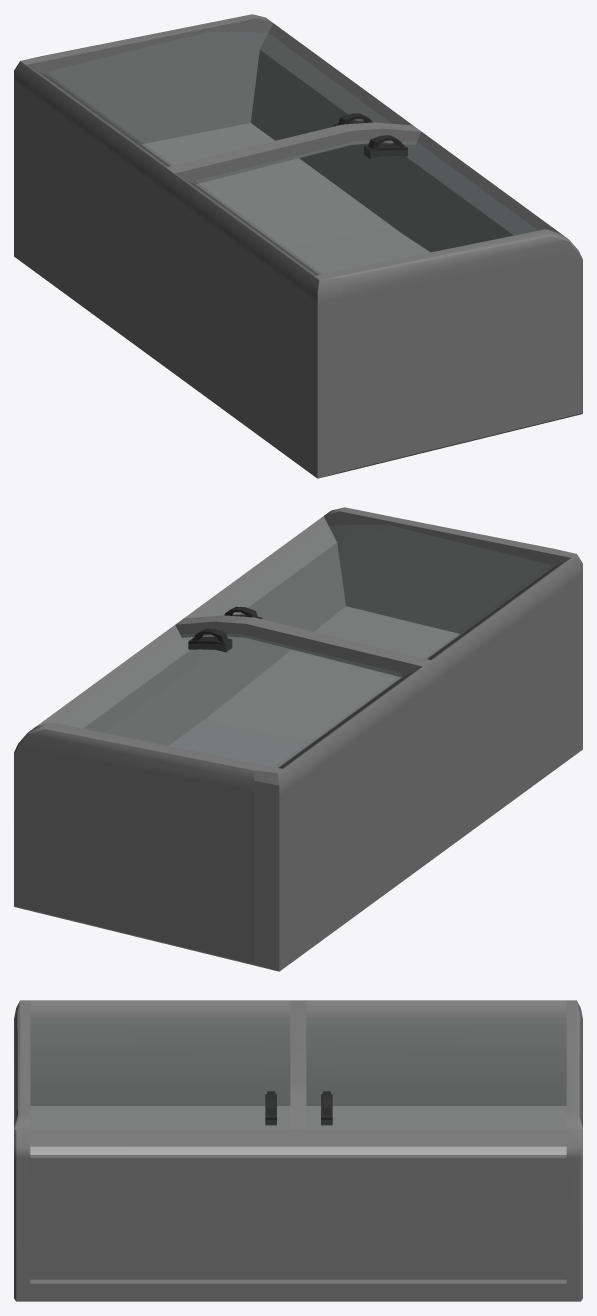
The model's file is BoxFreezer.fbx.
3 views of the same model, one above another, from view 1: azimuth 30°, elevation 25°; view 2: azimuth 150°, elevation 25°; view 3: azimuth 270°, elevation 25° (orthographic). The views are drawn at different scales.
Parts seen in each view (by area): view 1: BoxFreezer; view 2: BoxFreezer; view 3: BoxFreezer.
Boxes of the visible parts, <box> form: BoxFreezer: <box>14,14,582,478</box>; BoxFreezer: <box>14,507,582,971</box>; BoxFreezer: <box>14,1000,582,1301</box>.
Size of the model in its own units: 123 by 86.58 by 245.
